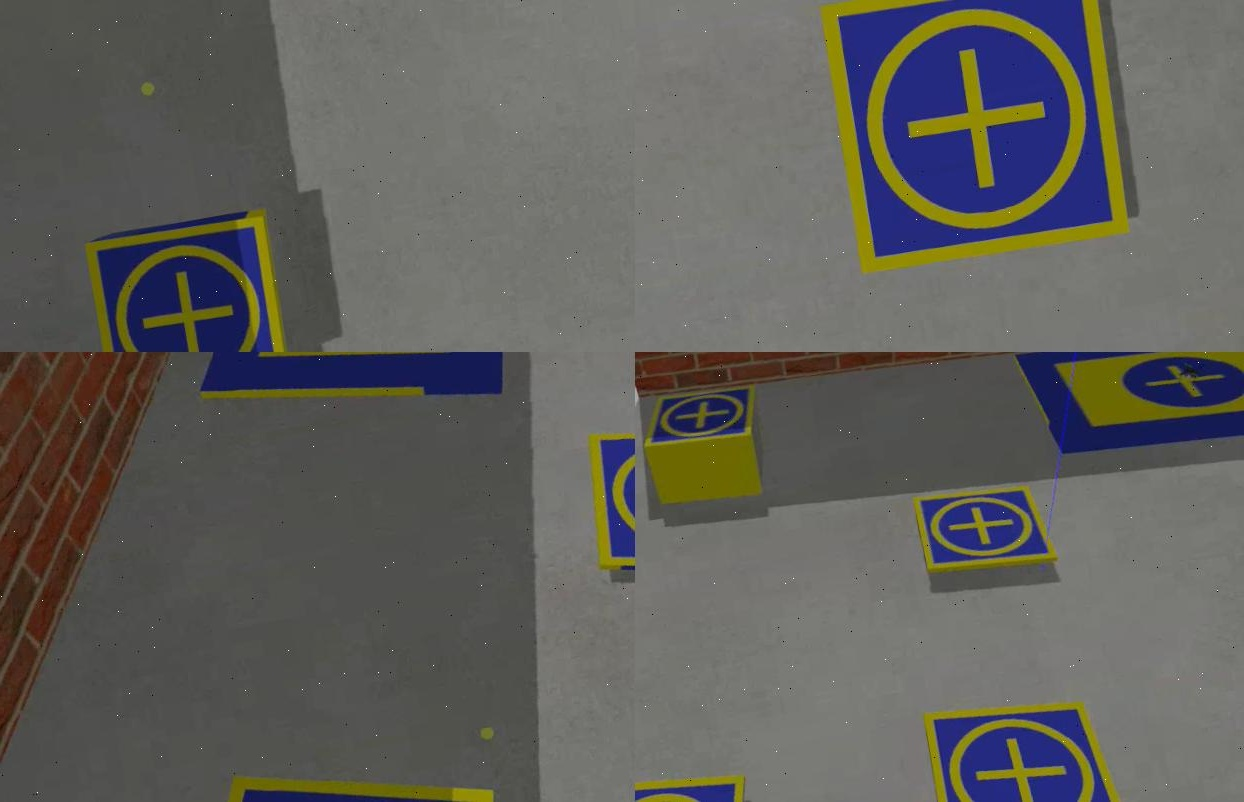large_base: (171, 353, 539, 440), (1011, 353, 1242, 473)
small_base: (810, 1, 1139, 279), (78, 209, 293, 353), (118, 734, 527, 802), (917, 680, 1135, 802), (912, 476, 1059, 585), (570, 406, 633, 611), (633, 382, 759, 458)
